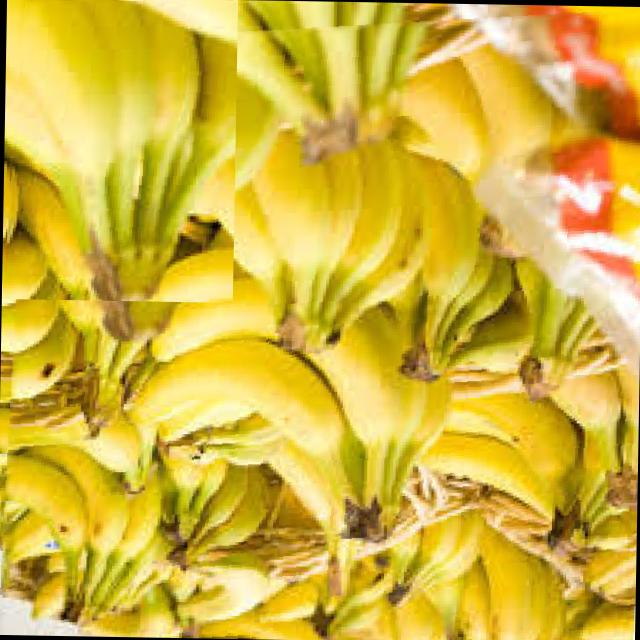Organic: (0, 0, 640, 640), (0, 0, 236, 301)
